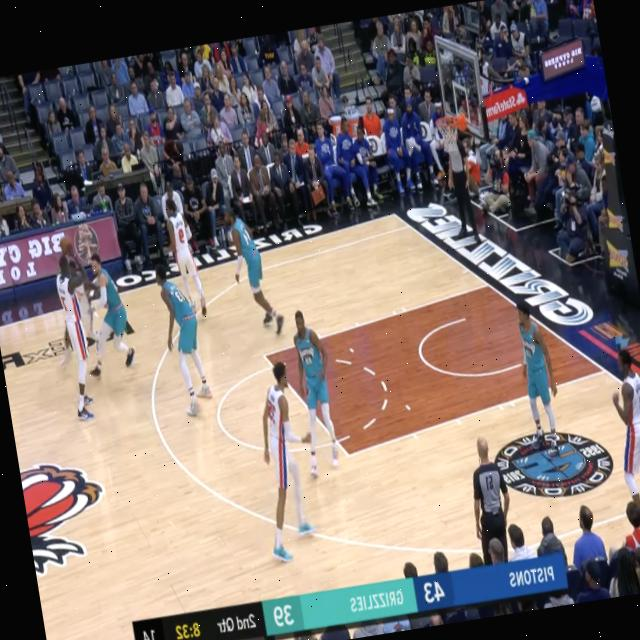no foul: (225, 290, 374, 568), (42, 232, 147, 416)
